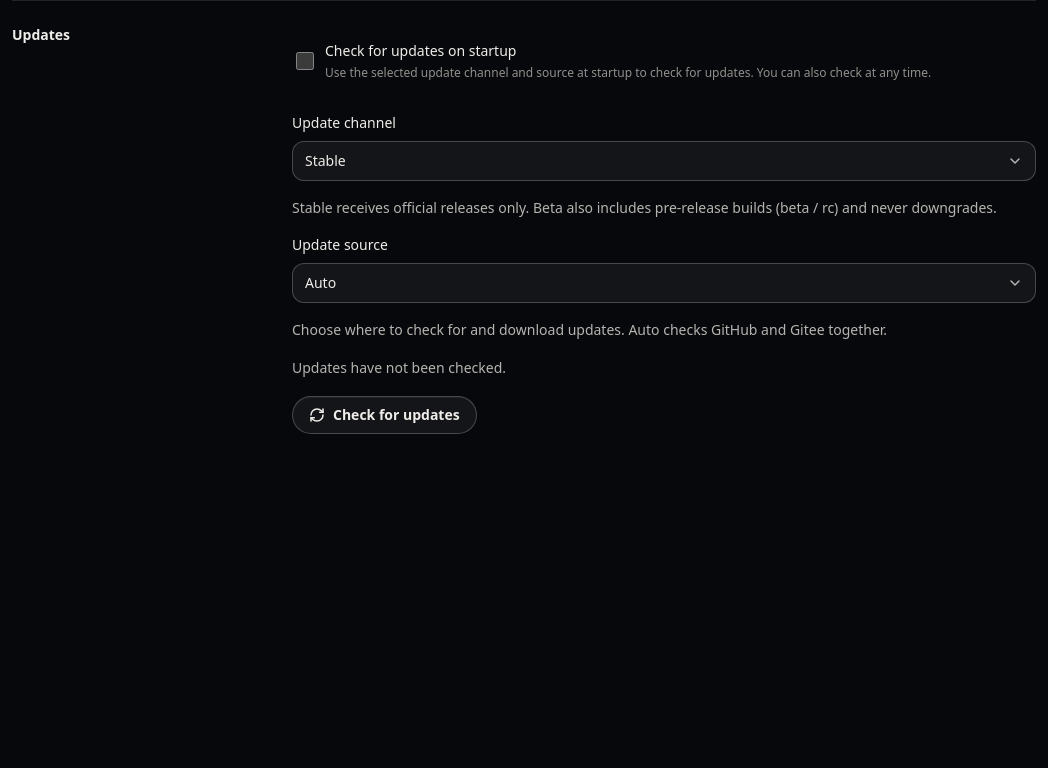
Settings → About → Updates › shows the installed version and checks on request
The image size is (1048, 768).
Click the button "Check for updates". click: click(384, 415)
box: [292, 396, 477, 434]
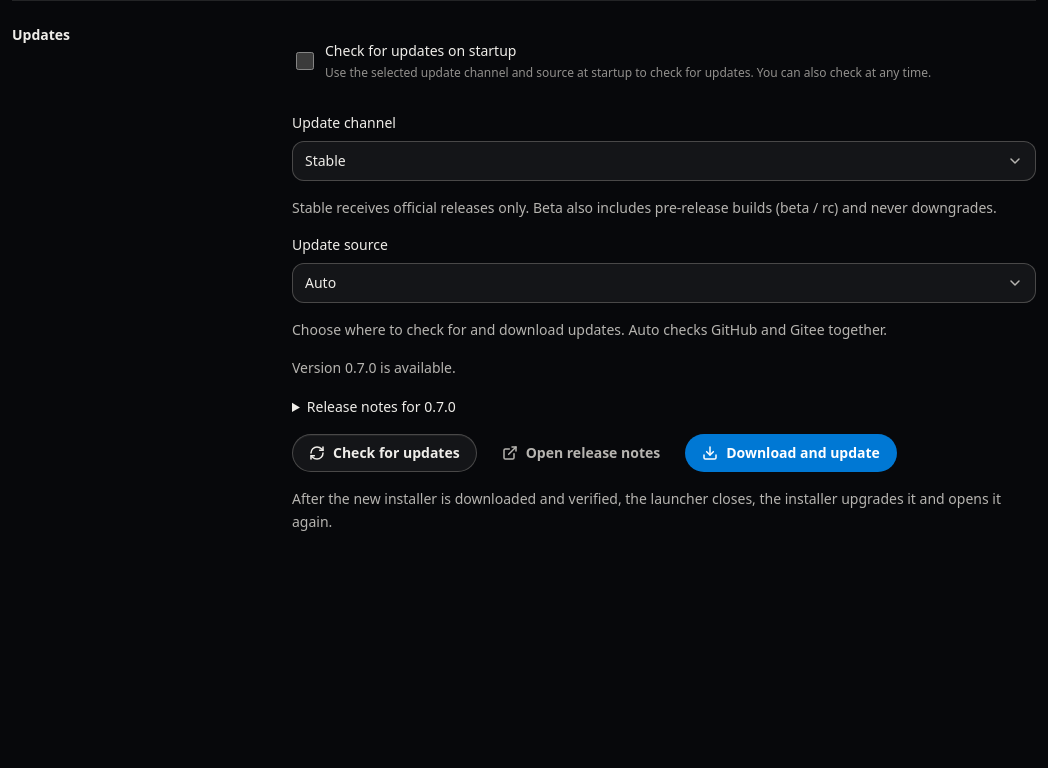
Check: the message with test id "launcher-update-status" reads "Version 0.7.0 is available.", box [292, 358, 456, 377]
Check: the button "Download and update" is enabled, box [685, 434, 897, 472]
Check: the text "Release notes for 0.7.0" is shown, box [307, 397, 456, 416]
